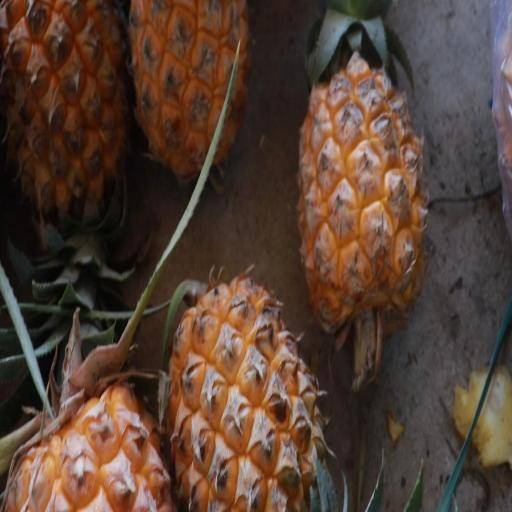Pineapple - v8 v1: (292, 6, 434, 356), (166, 267, 329, 512), (2, 319, 185, 512), (2, 4, 128, 242), (124, 0, 253, 196)
